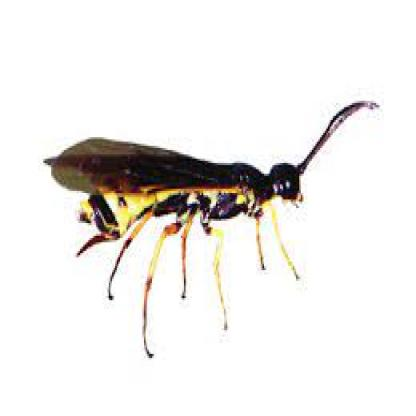sawfly: (41, 98, 384, 357)
